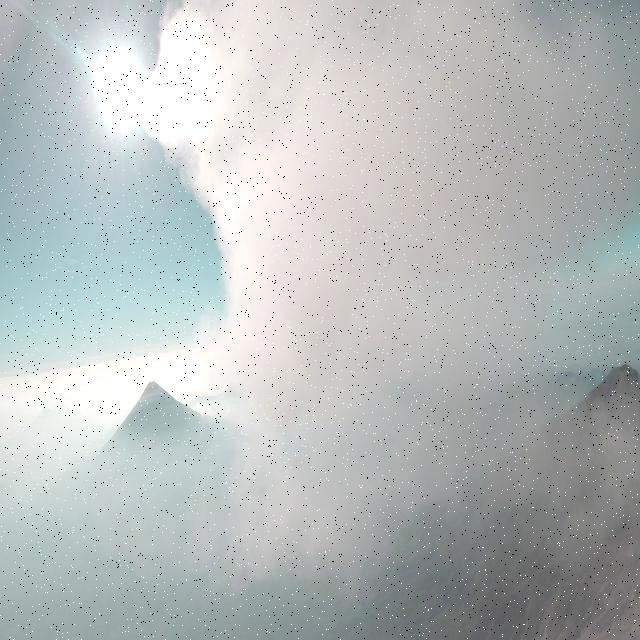Plume: (138, 0, 640, 602)
